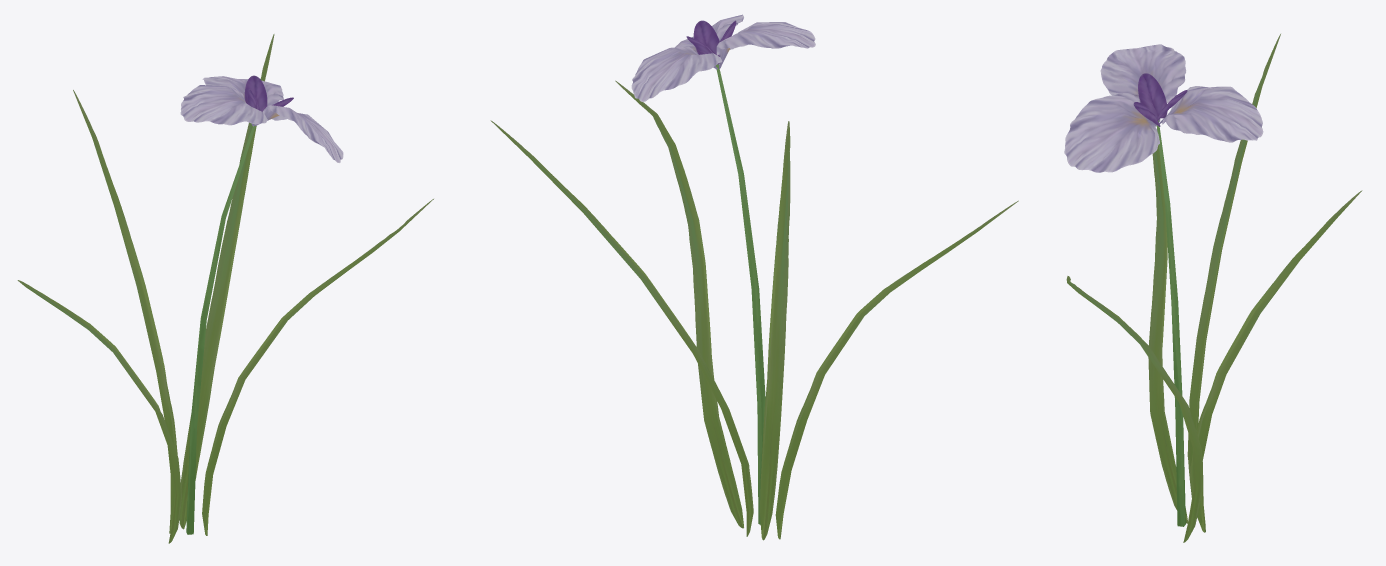
The model's file is SM_EastLands_Iris_01.fbx.
The picture shows the model from 3 angles, left to right: view 1: azimuth 30°, elevation 25°; view 2: azimuth 150°, elevation 25°; view 3: azimuth 270°, elevation 25°; orthographic projection. The views are drawn at different scales.
Visible parts, largest first — view 1: SM_EastLands_Iris_01_LOD0; view 2: SM_EastLands_Iris_01_LOD0; view 3: SM_EastLands_Iris_01_LOD0.
Part boxes in pixels (bbox=[...]): SM_EastLands_Iris_01_LOD0: bbox=[17, 34, 433, 543]; SM_EastLands_Iris_01_LOD0: bbox=[490, 14, 1018, 540]; SM_EastLands_Iris_01_LOD0: bbox=[1064, 34, 1362, 542].
Bounding box in the file's own units: 113 × 119 × 67.48.
